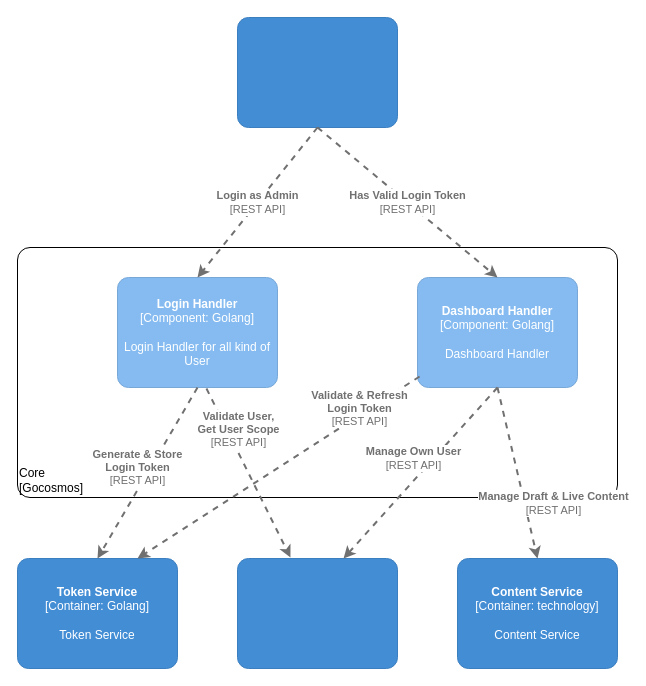
Some shapes in this 646 by 686 pixel diagram are drawn without their labels. Here are the shapes that lost their labels. From the top down, the centre of each, then its label:
At point 317,72: "Editor Dashboard Web App [Container: Golang, HTML, CSS, JS] GUI for Editor".
At point 317,613: "User Service [Container: Golang] User Service".
